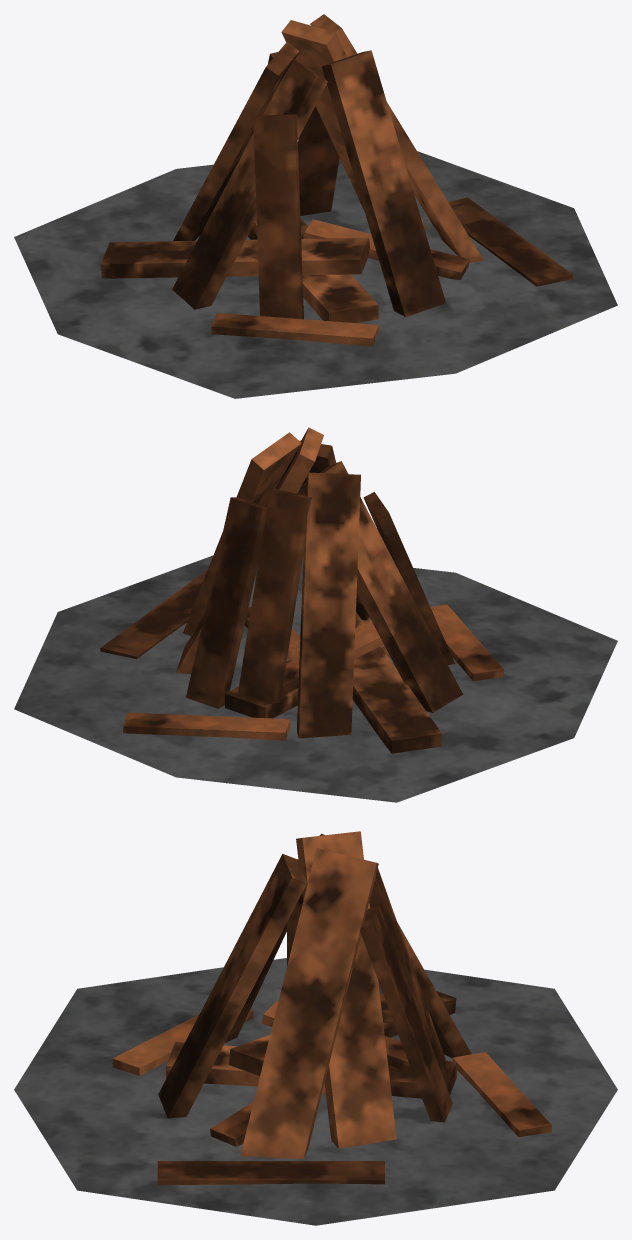
Rendered from Fire1.fbx.
3 views of the same model, one above another, from view 1: azimuth 30°, elevation 25°; view 2: azimuth 150°, elevation 25°; view 3: azimuth 270°, elevation 25° (orthographic). The views are drawn at different scales.
Visible parts, largest first — view 1: Fire1; view 2: Fire1; view 3: Fire1.
Part boxes in pixels (x1=…): Fire1: x1=14, y1=14, x2=617, y2=398; Fire1: x1=14, y1=427, x2=617, y2=802; Fire1: x1=14, y1=831, x2=617, y2=1225.
Bounding box in the file's own units: 1.35 × 0.6302 × 1.27.
